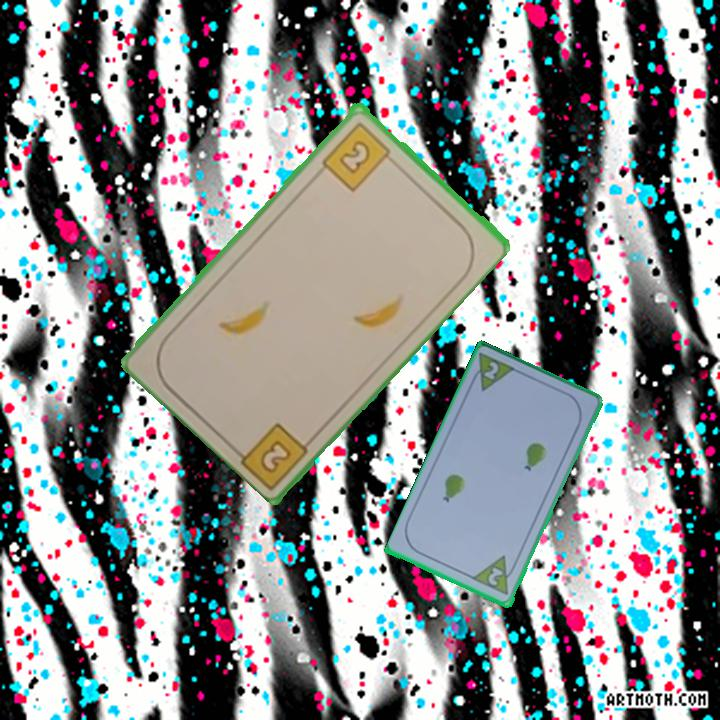2b: (318, 118, 399, 194), (256, 435, 295, 476)
2p: (470, 552, 520, 599), (480, 358, 502, 383)
